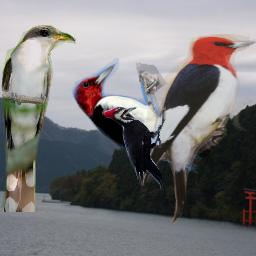Cuckoo: (0, 24, 76, 212)
Woodpecker: (139, 34, 256, 224), (58, 58, 218, 178), (102, 106, 166, 190)
